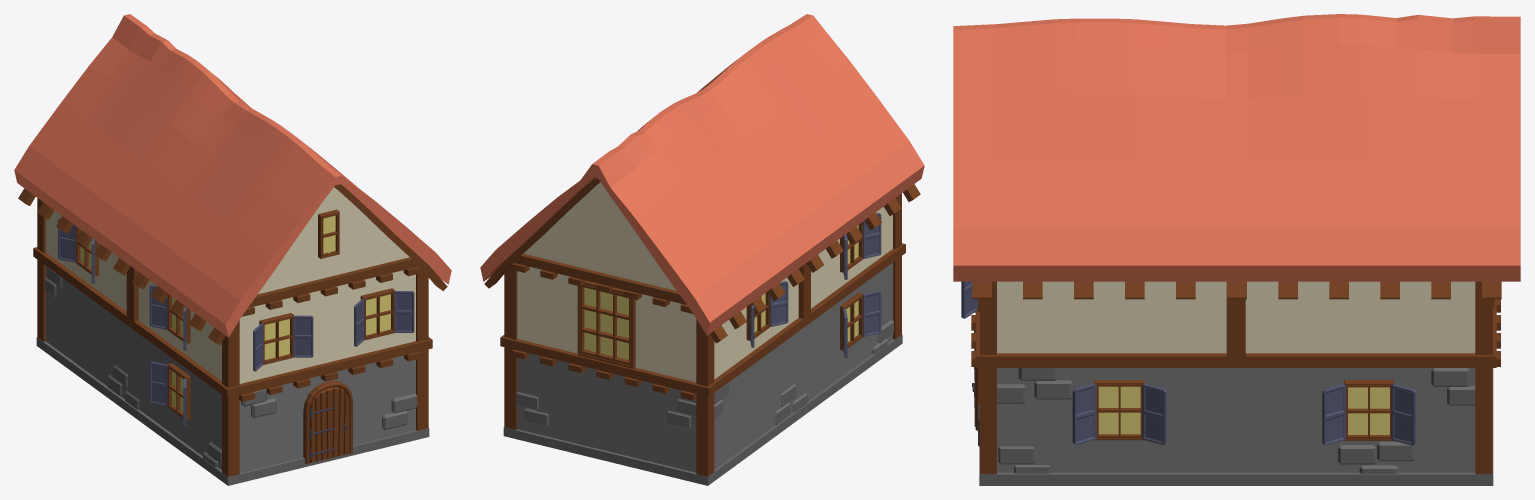
The model's file is House_City_01.fbx.
3 renders of one model, left to right at view 1: azimuth 30°, elevation 25°; view 2: azimuth 150°, elevation 25°; view 3: azimuth 270°, elevation 25°, orthographic. The views are drawn at different scales.
Parts seen in each view (by area): view 1: Roof_Short_Flat.001, Floor_0.001, Floor_Short.001, Door_Arch.001, Window_4x4.001, Window_4x4.002, Window_4x4.007, Window_4x4.005, Window_4x4.006, Window_2x1.001; view 2: Roof_Short_Flat.001, Floor_0.001, Floor_Short.001, Window_6x6.002, Window_4x4.007, Window_4x4.006, Window_4x4.005; view 3: Roof_Short_Flat.001, Floor_0.001, Floor_Short.001, Window_4x4.003, Window_4x4.004.
Part boxes in pixels (x1,y1,x2,y2): Roof_Short_Flat.001: (14, 14, 451, 345); Floor_0.001: (36, 260, 429, 485); Floor_Short.001: (33, 198, 432, 401); Door_Arch.001: (303, 381, 352, 464); Window_4x4.001: (253, 313, 313, 371); Window_4x4.002: (354, 288, 414, 346); Window_4x4.007: (149, 361, 190, 427); Window_4x4.005: (149, 285, 190, 350); Window_4x4.006: (58, 217, 98, 283); Window_2x1.001: (318, 209, 339, 258); Roof_Short_Flat.001: (480, 14, 924, 343); Floor_0.001: (503, 256, 902, 485); Floor_Short.001: (500, 193, 905, 400); Window_6x6.002: (577, 280, 635, 368); Window_4x4.007: (840, 291, 881, 357); Window_4x4.006: (746, 281, 788, 347); Window_4x4.005: (840, 213, 881, 279); Roof_Short_Flat.001: (953, 14, 1520, 299); Floor_0.001: (978, 368, 1493, 485); Floor_Short.001: (971, 281, 1500, 367); Window_4x4.003: (1072, 380, 1166, 444); Window_4x4.004: (1322, 380, 1415, 445).
Size of the model in its own units: 713 by 884 by 1123.
